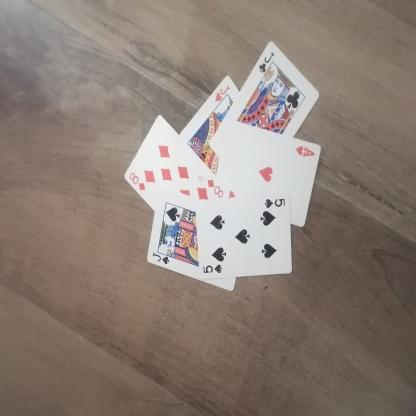5S: (200, 262, 225, 278), (262, 198, 289, 210)
8D: (124, 170, 148, 196)
AH: (294, 146, 318, 159)
JC: (258, 53, 278, 77)
JH: (211, 83, 230, 104)
JS: (153, 248, 172, 269)
